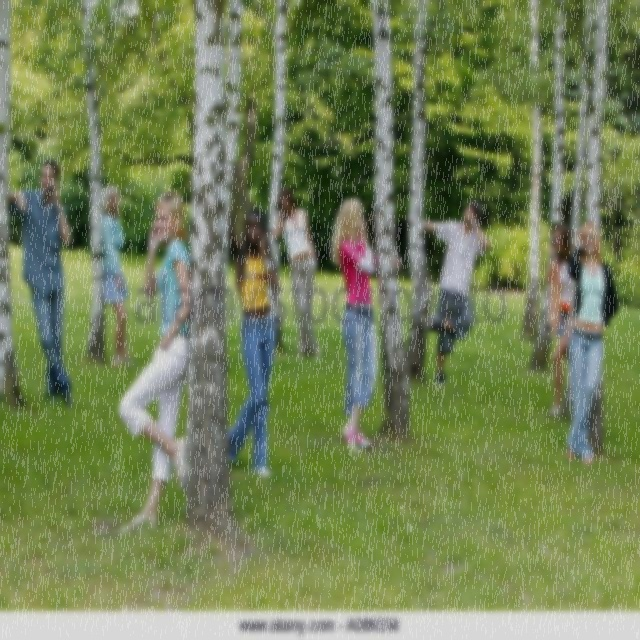pessoa: (117, 186, 194, 536), (327, 192, 404, 458), (5, 156, 75, 414), (404, 195, 492, 392), (224, 204, 281, 482), (563, 217, 621, 472), (271, 186, 323, 366), (101, 186, 134, 371), (544, 222, 573, 418)
